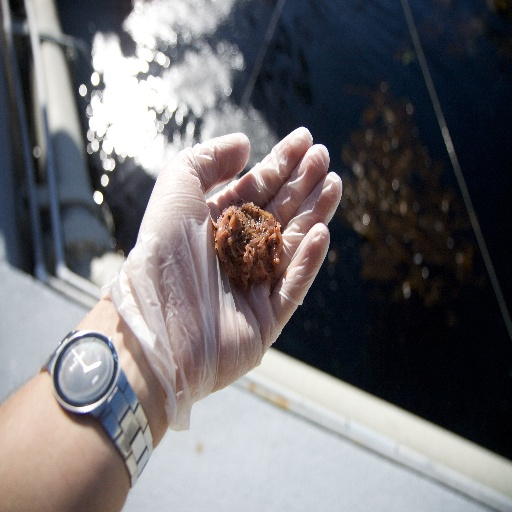hand: (124, 122, 344, 407)
